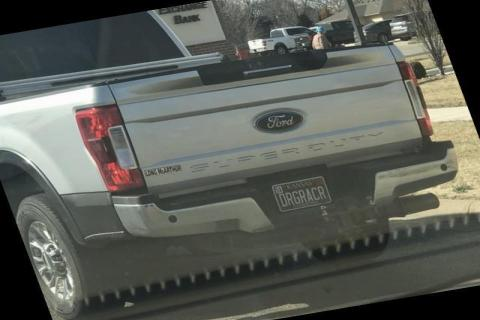LicensePlate: (269, 175, 331, 212)
